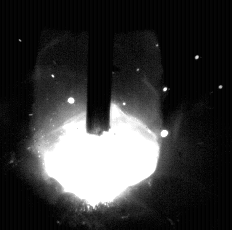arame: (88, 0, 112, 135)
poca: (34, 0, 161, 230)
